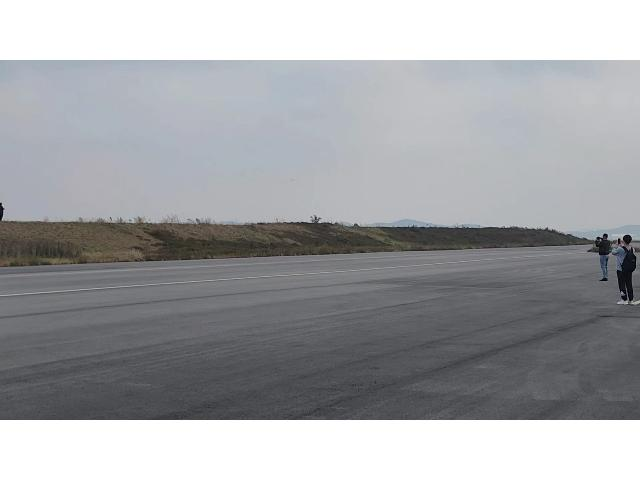Anti-Drone: (291, 177, 299, 181)
